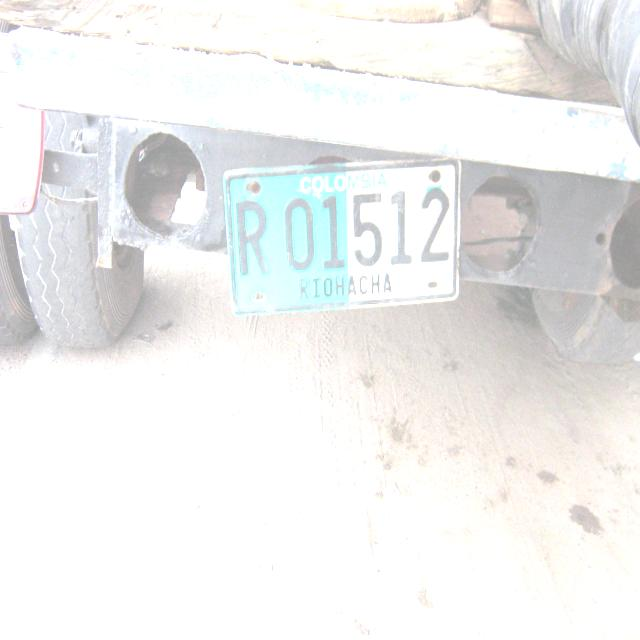placa: (216, 150, 469, 320)
